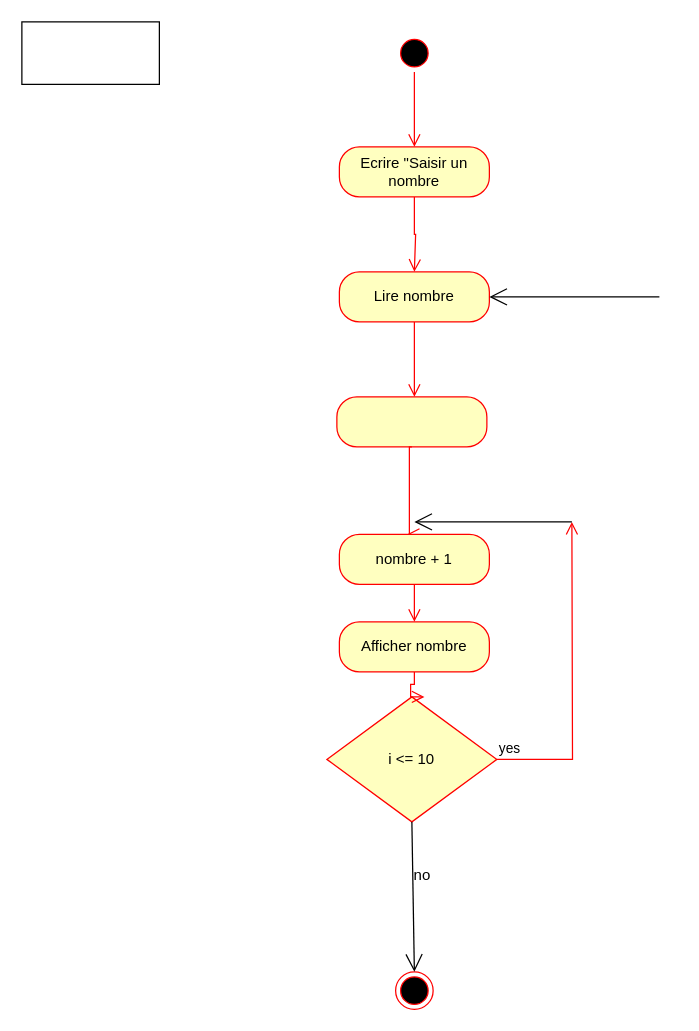
This 699x1031 diagram has some shape labels left out. Here are the shapes that lost their labels. From the top down, the box of each, then its label:
(21, 21, 159, 84): Exercice Algo boucle 3
(336, 396, 487, 447): i = 1
